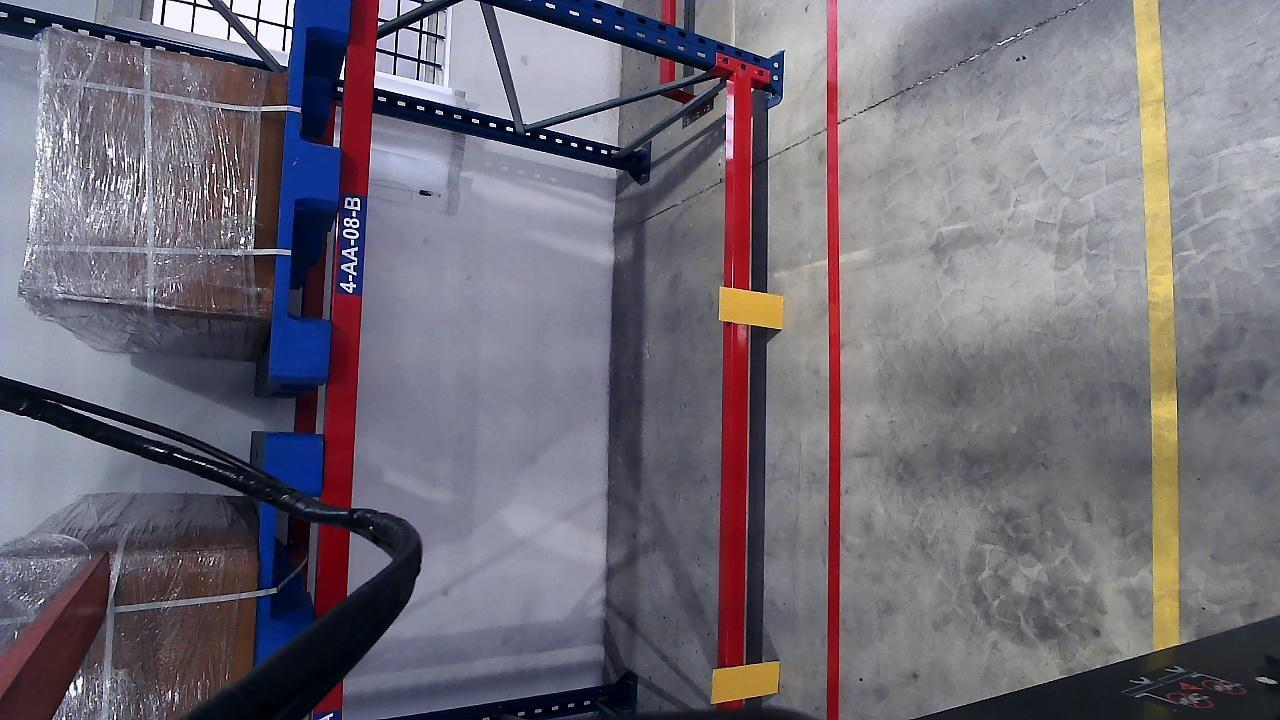red_line: (821, 0, 844, 720)
yellow_line: (1135, 0, 1181, 652)
